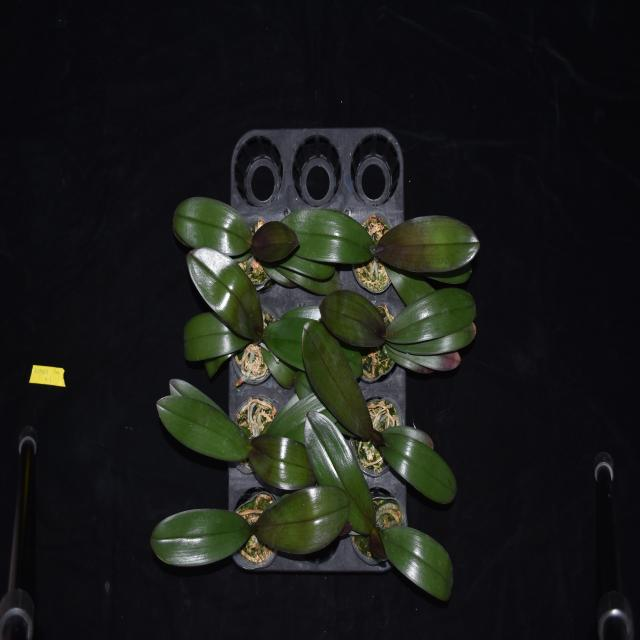leaf: (302, 314, 374, 447), (302, 409, 375, 536), (185, 238, 264, 343), (376, 210, 481, 284), (152, 394, 249, 466), (254, 482, 350, 554), (366, 525, 454, 603), (148, 506, 254, 566), (375, 432, 457, 507), (384, 285, 480, 347), (170, 193, 253, 257), (282, 208, 375, 262), (181, 309, 246, 375), (249, 437, 320, 492), (319, 290, 386, 348), (258, 396, 336, 443), (262, 311, 315, 372), (268, 254, 342, 297), (383, 321, 477, 353), (382, 340, 466, 374), (381, 255, 433, 307), (167, 375, 226, 420), (282, 240, 338, 283), (252, 218, 301, 267), (256, 339, 296, 389), (379, 420, 437, 453)
